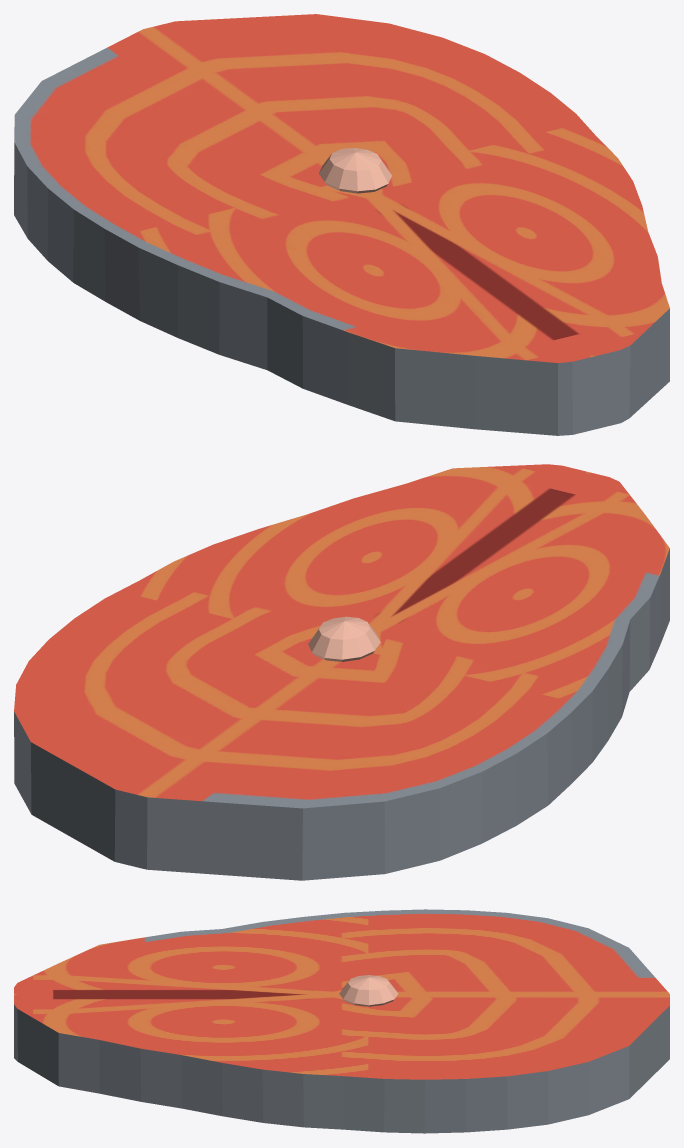
File: salmon_steak.glb
3 renders of one model, top to bottom at view 1: azimuth 30°, elevation 25°; view 2: azimuth 150°, elevation 25°; view 3: azimuth 270°, elevation 25°, orthographic. The views are drawn at different scales.
Parts seen in each view (by area): view 1: salmon_steak_flesh, salmon_steak_bone; view 2: salmon_steak_flesh, salmon_steak_bone; view 3: salmon_steak_flesh, salmon_steak_bone.
Part boxes in pixels (bbox=[...]): salmon_steak_flesh: bbox=[14, 14, 669, 435]; salmon_steak_bone: bbox=[319, 148, 391, 193]; salmon_steak_flesh: bbox=[14, 464, 669, 880]; salmon_steak_bone: bbox=[308, 616, 380, 661]; salmon_steak_flesh: bbox=[14, 909, 669, 1133]; salmon_steak_bone: bbox=[339, 975, 398, 1006].
Size of the model in its own units: 0.1504 by 0.0297 by 0.2441.
2 materials, 2 textured.
